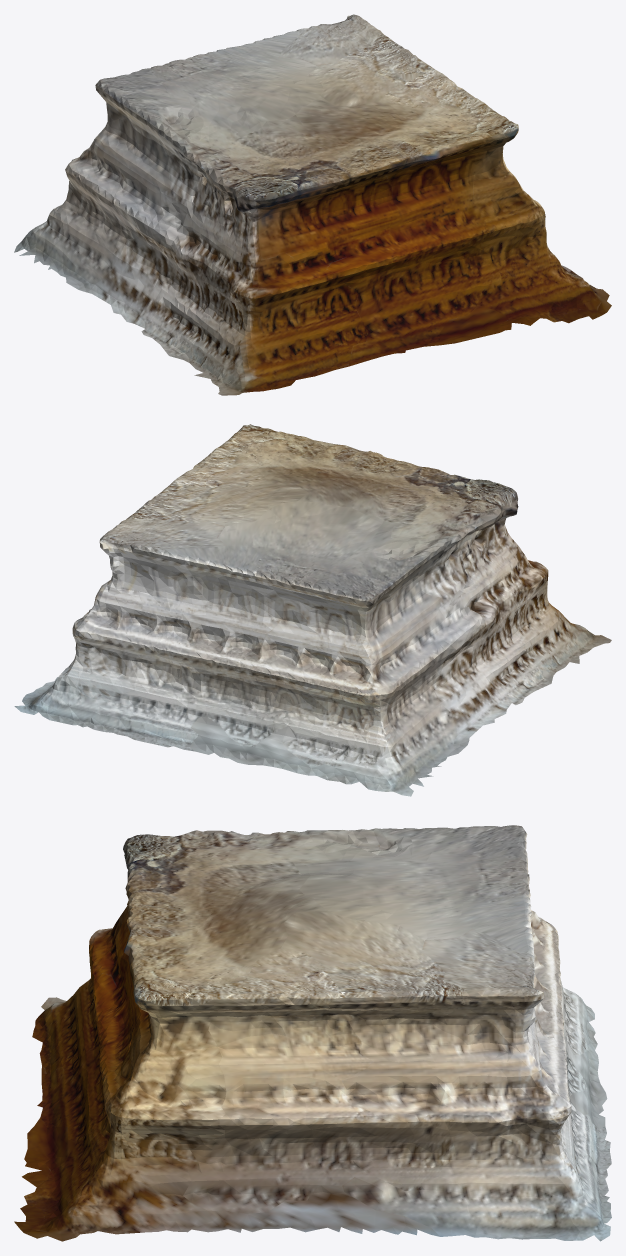
The model's file is Temple.glb.
The picture shows the model from 3 angles, top to bottom: view 1: azimuth 30°, elevation 25°; view 2: azimuth 150°, elevation 25°; view 3: azimuth 270°, elevation 25°; orthographic projection. The views are drawn at different scales.
Visible parts, largest first — view 1: Mesh; view 2: Mesh; view 3: Mesh.
Boxes of the visible parts, x1=… form: Mesh: x1=14, y1=14, x2=611, y2=395; Mesh: x1=14, y1=424, x2=611, y2=796; Mesh: x1=14, y1=825, x2=611, y2=1241.
Size of the model in its own units: 1.56 by 0.6555 by 1.58.
1 material, 1 textured.
